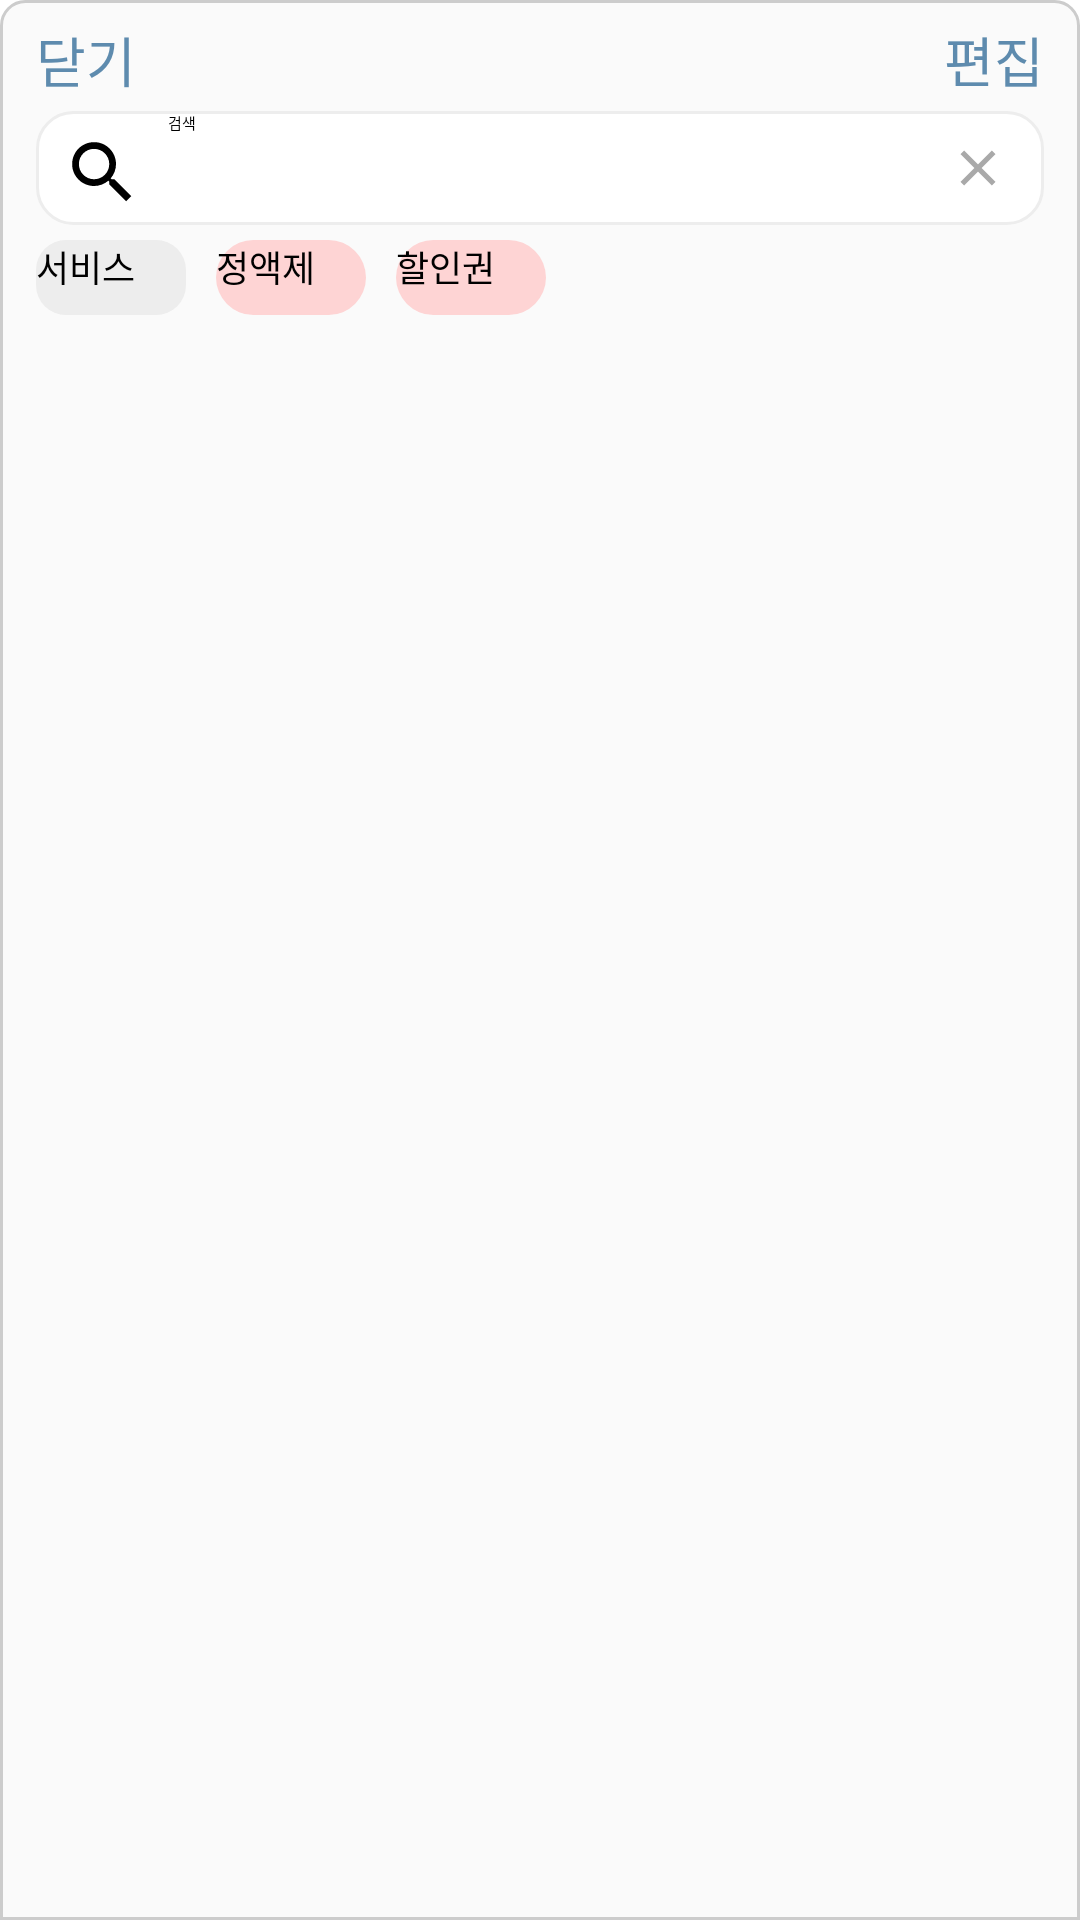

Named icons in this screenshot (1080*1920) and their centers, (x,y):
cansel: (978,168)
